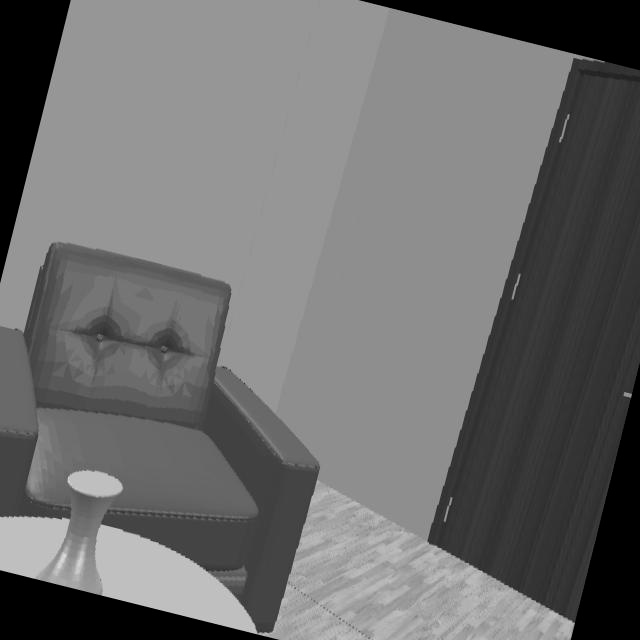sofa: (0, 243, 317, 601)
table: (94, 525, 254, 632), (0, 516, 67, 577)
